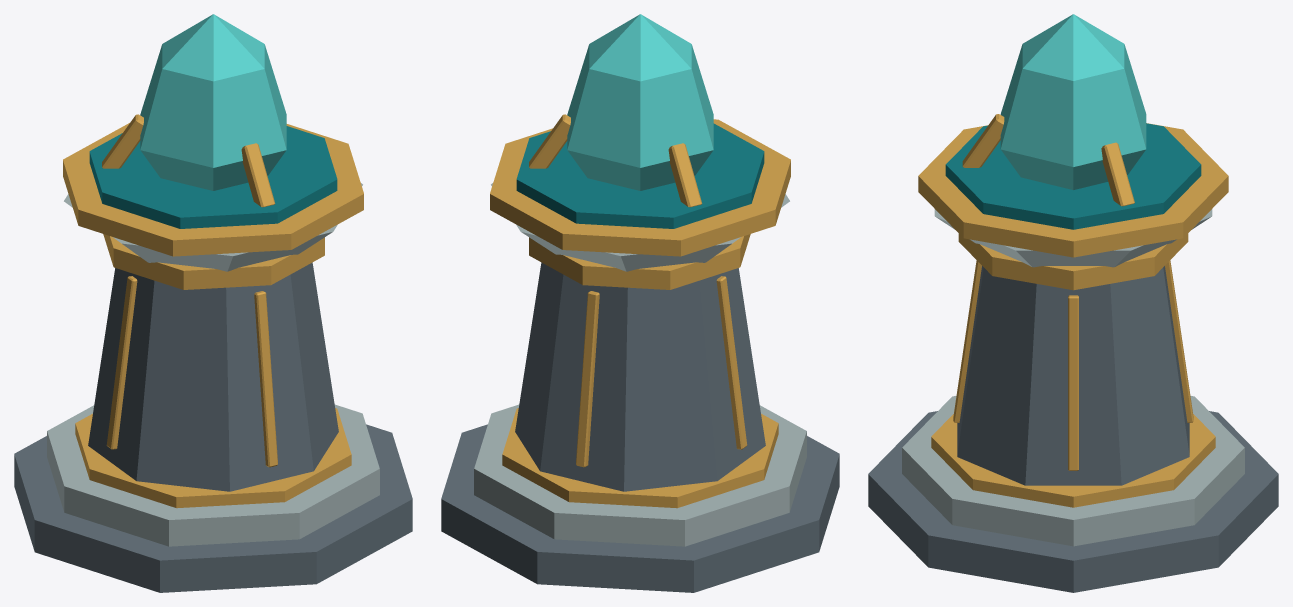
File: 19_Reward_Pedestal.glb
3 views of the same model, side by side, from view 1: azimuth 30°, elevation 25°; view 2: azimuth 150°, elevation 25°; view 3: azimuth 270°, elevation 25° (orthographic).
Visible parts, largest first — view 1: 19_Reward_Pedestal__Body; view 2: 19_Reward_Pedestal__Body; view 3: 19_Reward_Pedestal__Body.
Boxes of the visible parts, x1,y1,x2,y2 form: 19_Reward_Pedestal__Body: (14, 14, 412, 592); 19_Reward_Pedestal__Body: (441, 14, 839, 592); 19_Reward_Pedestal__Body: (868, 14, 1278, 592).
Size of the model in its own units: 2.54 by 3.36 by 2.54.
Materials: 1 (1 with a texture image).
